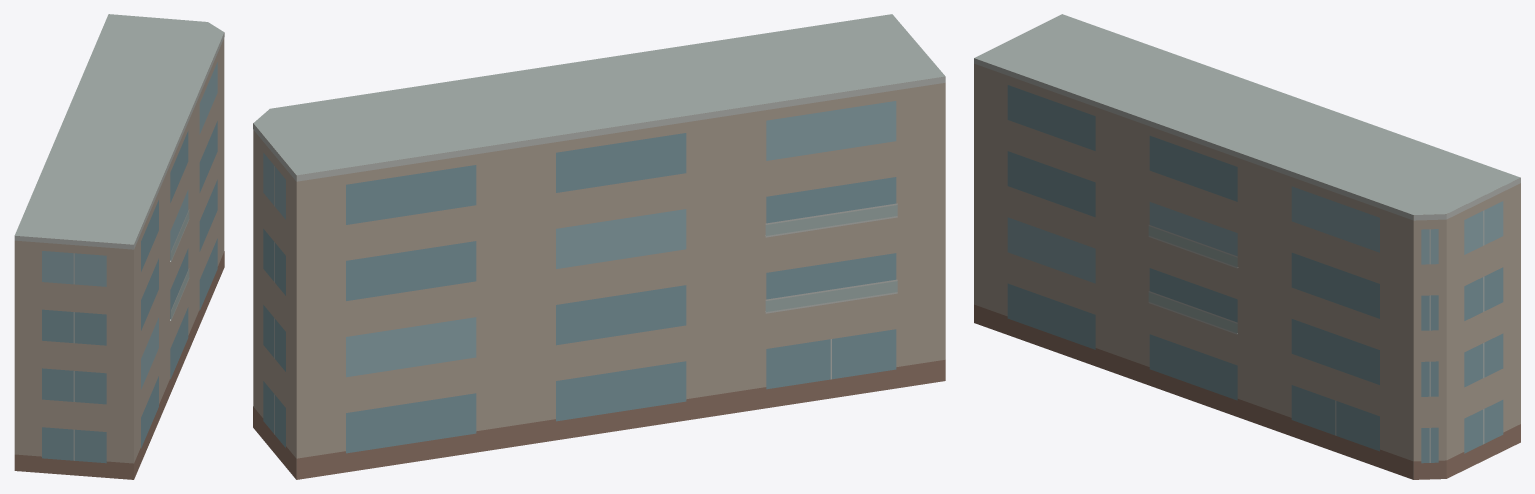
File: survey-upis-32704145.glb
3 views of the same model, side by side, from view 1: azimuth 30°, elevation 25°; view 2: azimuth 150°, elevation 25°; view 3: azimuth 270°, elevation 25° (orthographic). The views are drawn at different scales.
Visible parts, largest first — view 1: survey-upis-32704145.tmp; view 2: survey-upis-32704145.tmp; view 3: survey-upis-32704145.tmp.
Boxes of the visible parts, <box> form: survey-upis-32704145.tmp: <box>14,14,224,479</box>; survey-upis-32704145.tmp: <box>253,14,945,479</box>; survey-upis-32704145.tmp: <box>974,14,1520,479</box>.
Bounding box in the file's own units: 19.23 × 11.8 × 22.09.
